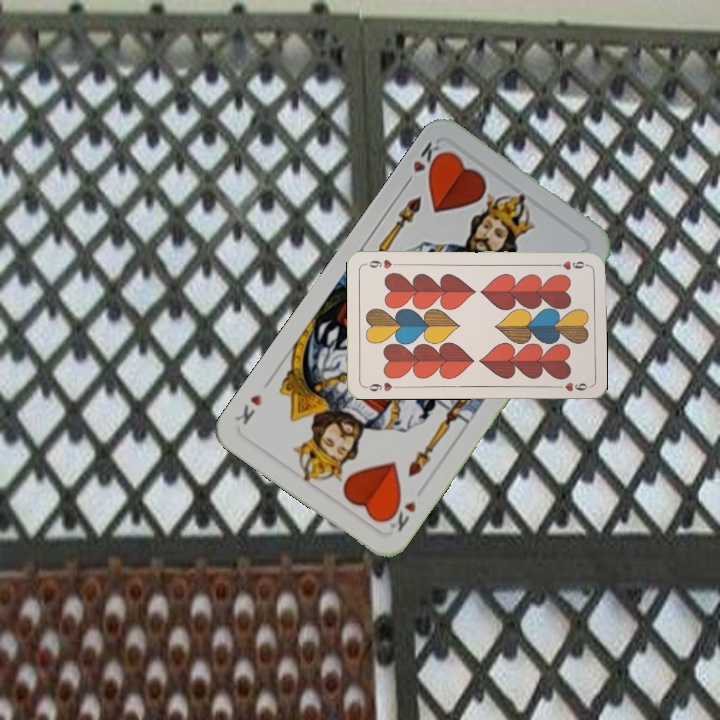H9: (362, 378, 402, 394), (550, 257, 590, 273)
HK: (400, 138, 449, 189), (380, 495, 419, 535)
